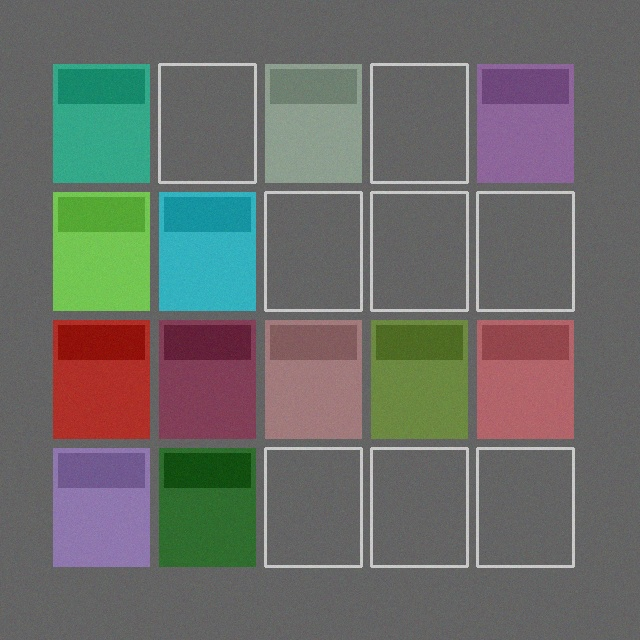space-empty: (159, 64, 255, 182), (371, 64, 467, 182), (265, 192, 361, 310), (371, 192, 467, 310), (477, 192, 573, 310), (265, 448, 361, 566), (371, 448, 467, 566), (477, 448, 573, 566)
space-occupied: (53, 64, 149, 182), (265, 64, 361, 182), (477, 64, 573, 182), (53, 192, 149, 310), (159, 192, 255, 310), (53, 320, 149, 438), (159, 320, 255, 438), (265, 320, 361, 438), (371, 320, 467, 438), (477, 320, 573, 438), (53, 448, 149, 566), (159, 448, 255, 566)
